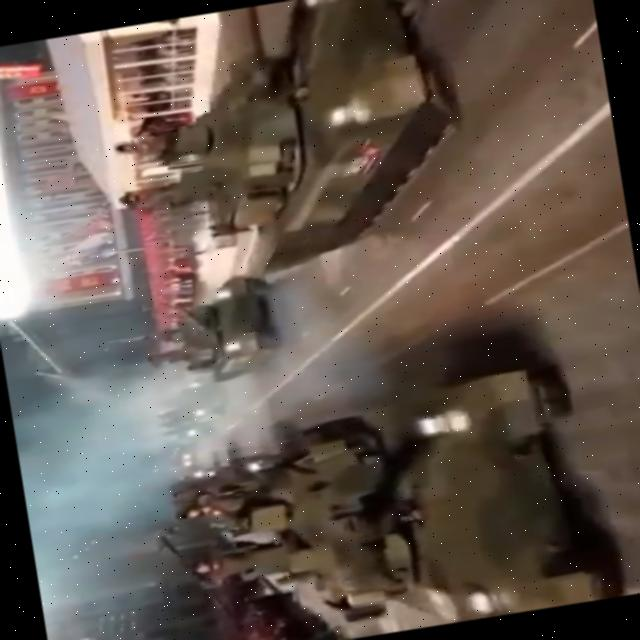north tank: (184, 346, 638, 640), (114, 0, 485, 309), (106, 260, 318, 408)
